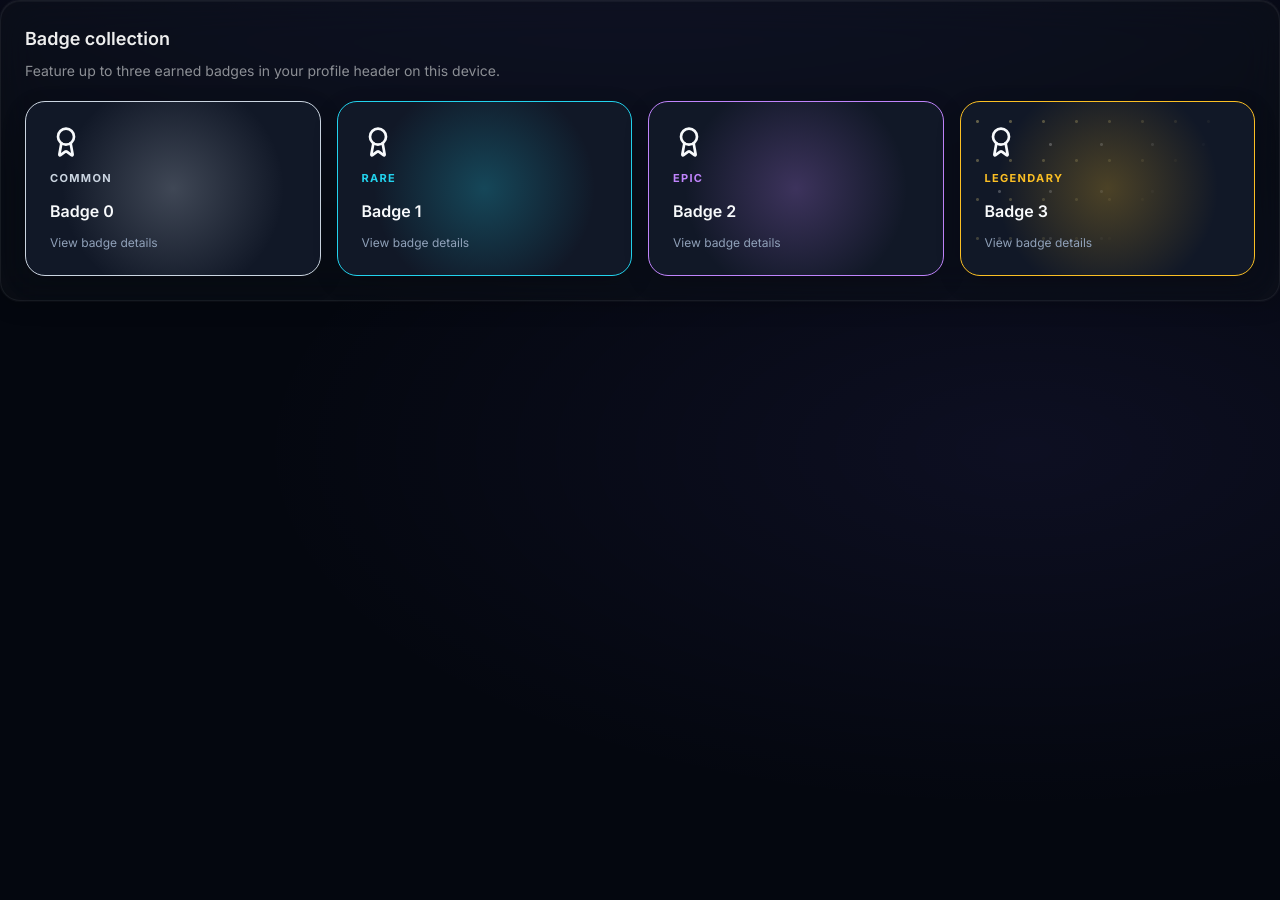
Test: badge collection interactions › shows lore, real unlock date and explicit missing-rate text in an accessible dialog
Click the button with aria-label "View Badge 0 badge" at (173, 188), box x1=25 y1=101 x2=320 y2=276
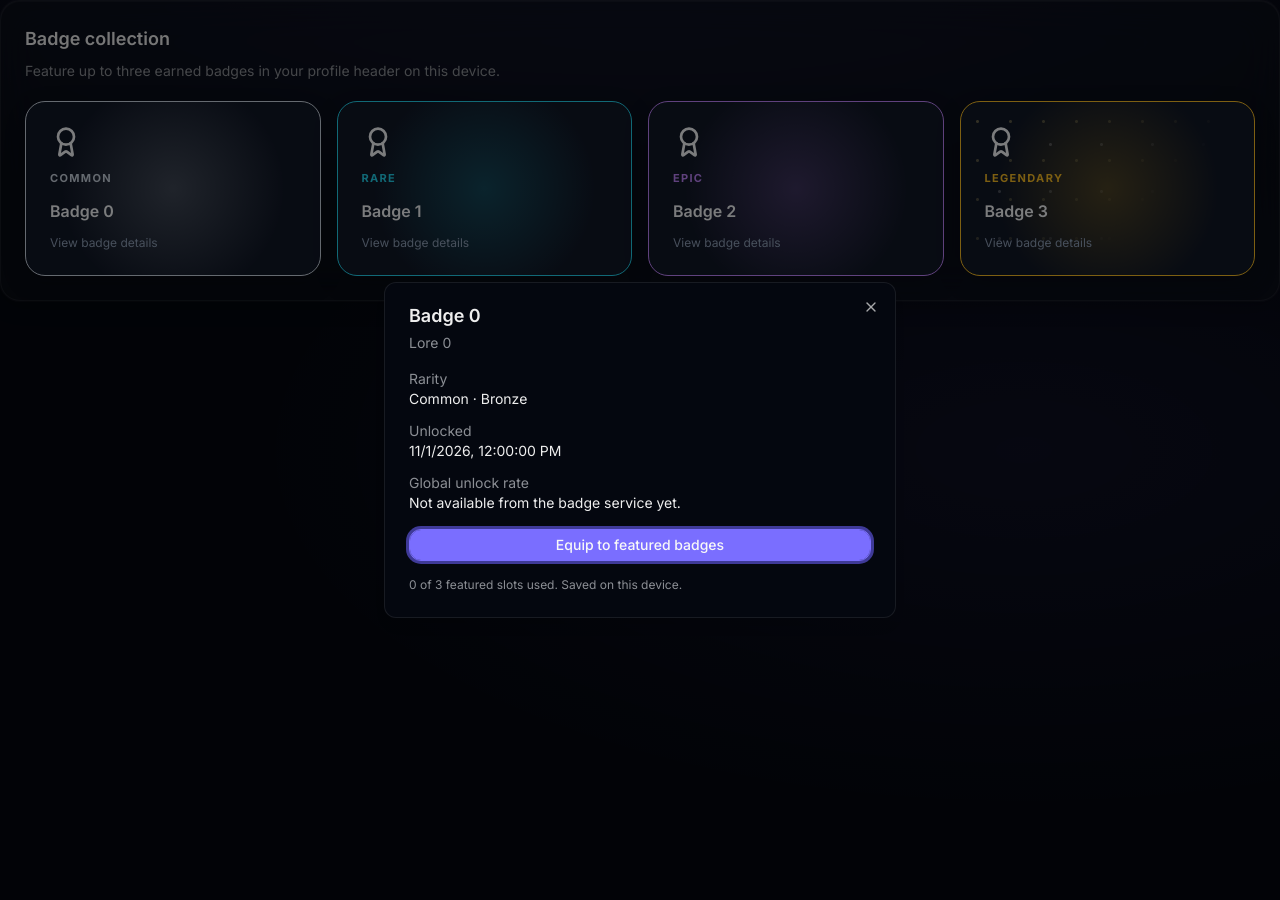
Now the text "Lore 0" is shown, box x1=409 y1=334 x2=451 y2=351
Now the text "Not available from the badge service yet." is shown, box x1=409 y1=494 x2=681 y2=511
